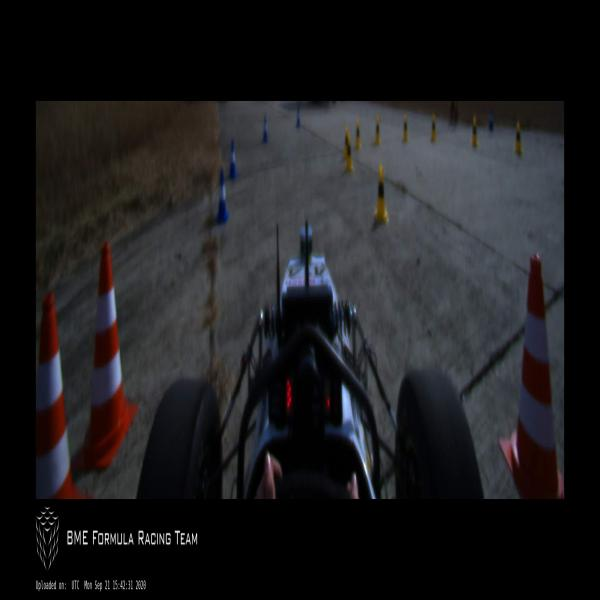blue_cone: (214, 169, 229, 226), (228, 138, 238, 182), (262, 116, 268, 144), (489, 109, 494, 130), (296, 109, 300, 128)
large_orange_cone: (499, 255, 564, 498), (70, 241, 137, 471), (36, 292, 89, 498)
yellow_cone: (373, 164, 389, 225), (344, 135, 354, 174), (514, 124, 523, 157), (470, 117, 479, 148), (374, 115, 382, 147), (354, 119, 362, 149), (430, 114, 437, 143), (402, 114, 408, 144), (343, 127, 348, 159)
